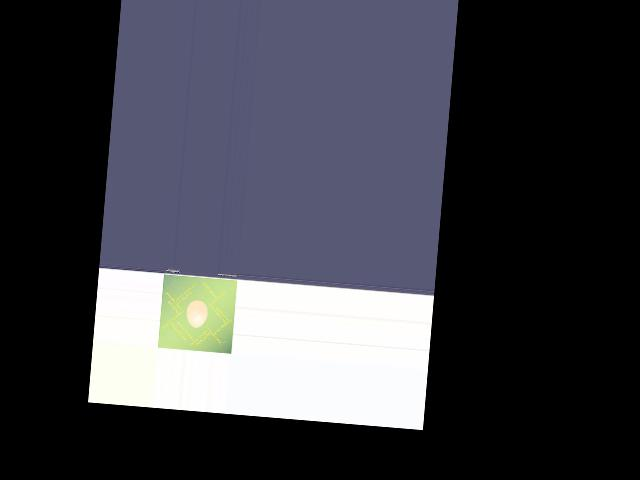egg: (186, 299, 208, 328)
